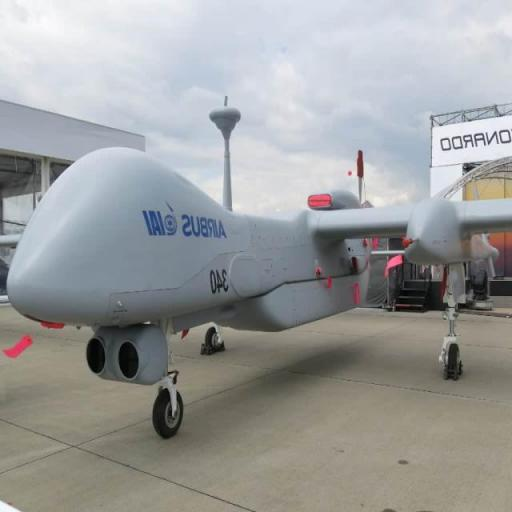uav: (0, 148, 504, 446)
